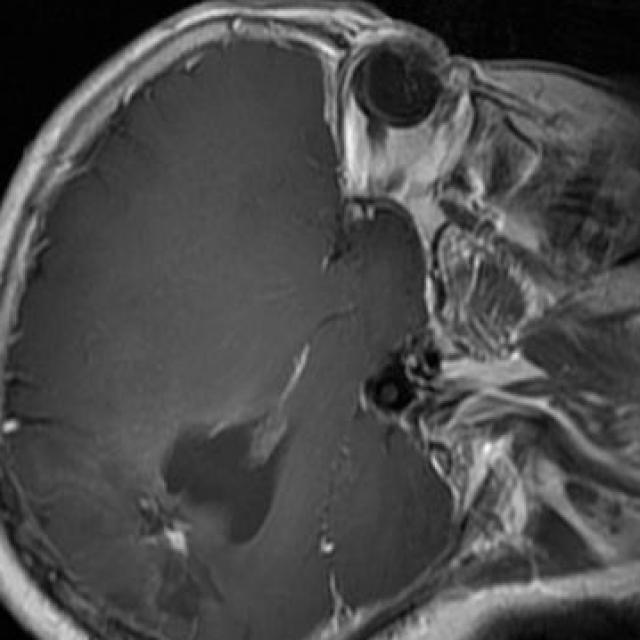glioma: (132, 410, 291, 617)
